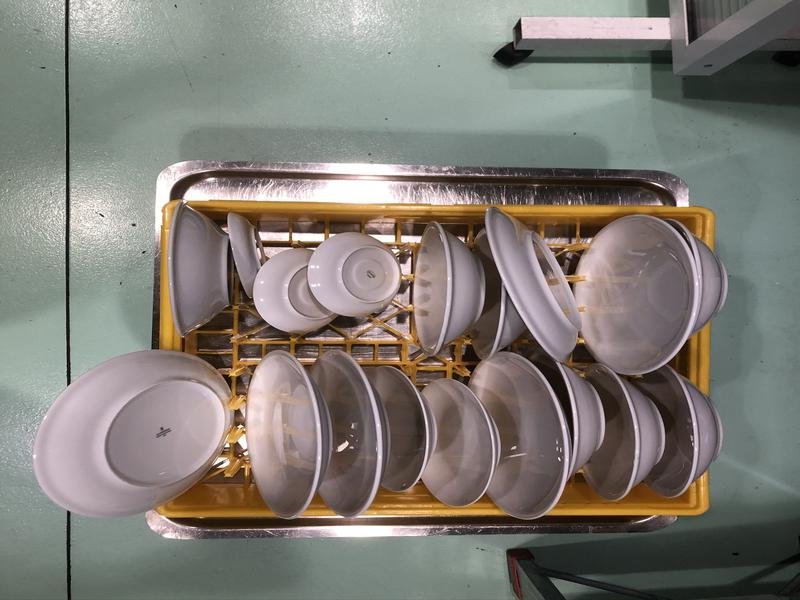Dish: (574, 213, 698, 377), (467, 352, 572, 517), (249, 351, 336, 518), (312, 346, 382, 516), (589, 358, 669, 500), (421, 376, 501, 508), (411, 222, 482, 358), (370, 362, 439, 493), (174, 201, 235, 339), (660, 362, 722, 497), (550, 358, 612, 476), (473, 232, 527, 358), (673, 218, 729, 335), (225, 210, 261, 293)
Inclined_dish: (33, 350, 229, 520), (309, 231, 398, 318), (254, 249, 336, 332)
